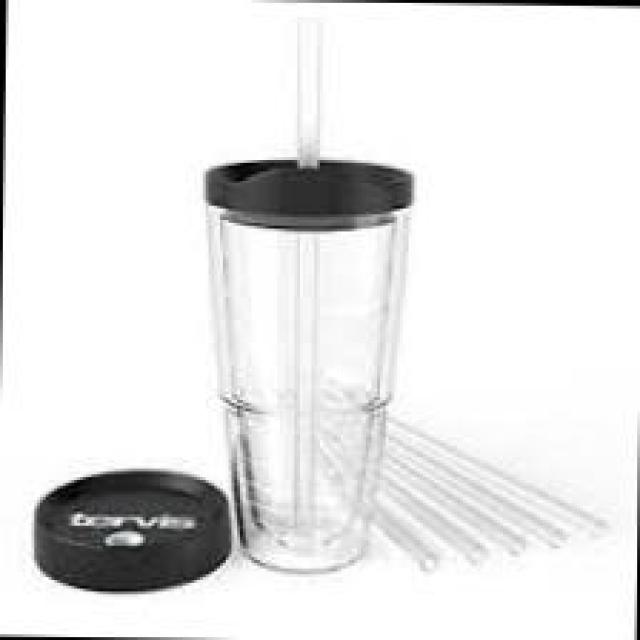bottle: (193, 13, 416, 578)
